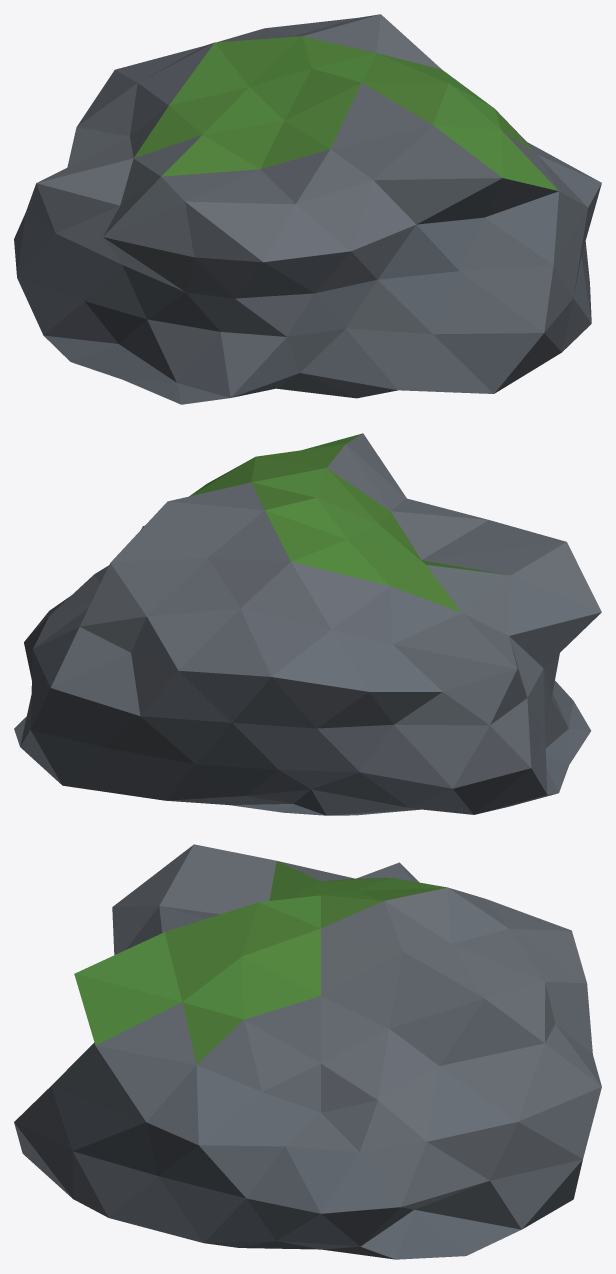
The model's file is rock-2.glb.
3 renders of one model, top to bottom at view 1: azimuth 30°, elevation 25°; view 2: azimuth 150°, elevation 25°; view 3: azimuth 270°, elevation 25°, orthographic. The views are drawn at different scales.
Visible parts, largest first — view 1: rock-2; view 2: rock-2; view 3: rock-2.
Boxes of the visible parts, box(x1,y1,x2,y2) form: rock-2: box(14, 14, 601, 404); rock-2: box(14, 433, 601, 815); rock-2: box(14, 844, 601, 1259).
Size of the model in its own units: 1.65 by 0.7267 by 1.56.
